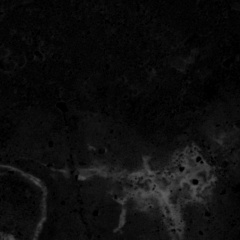Vegetation: (121, 168, 180, 211), (178, 150, 212, 198), (165, 211, 188, 240), (75, 167, 116, 179)
